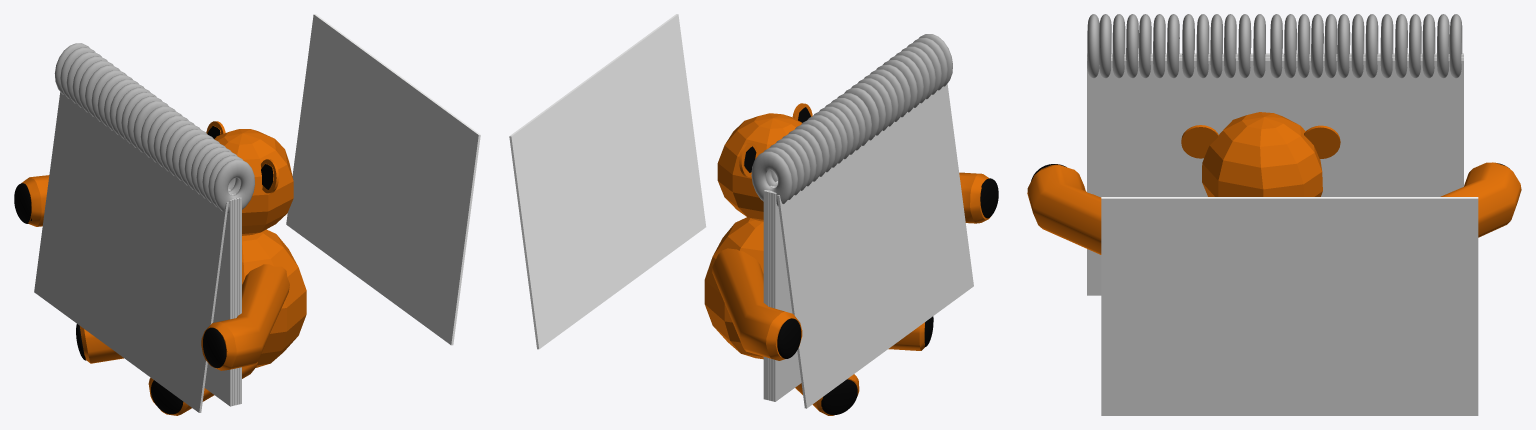
Rendered from Bear 1.fbx.
3 views of the same model, side by side, from view 1: azimuth 30°, elevation 25°; view 2: azimuth 150°, elevation 25°; view 3: azimuth 270°, elevation 25° (orthographic). The views are drawn at different scales.
Visible parts, largest first — view 1: pasted__pCube1 (×5), pasted__pasted__pCube1, pasted__pasted__pTorus1 (×12), pasted__pTorus1 (×12), pasted__pasted__pCylinder1 (×2), pSphere2, pSphere1, pasted__pasted__pasted__pCylinder1, pasted__pasted__pSphere5, pasted__pSphere5, pasted__pasted__pasted__pSphere5, pasted__pasted__pasted__pDisc1 (+1 smaller); view 2: pasted__pCube1 (×5), pasted__pasted__pCube1, pasted__pTorus1 (×11), pasted__pasted__pasted__pCylinder1 (×2), pasted__pasted__pTorus1 (×11), pSphere2, pSphere1, pasted__pasted__pCylinder1, pSphere5, pasted__pasted__pasted__pSphere5, pasted__pasted__pSphere5, pCube1 (+1 smaller); view 3: pasted__pasted__pCube1, pasted__pCube1, pasted__pTorus1 (×14), pasted__pasted__pTorus1 (×13), pSphere2, pasted__pasted__pCylinder1, pasted__pasted__pasted__pCylinder1, pasted__pasted__pasted__pDisc1 (×2).
Boxes of the visible parts, bbox=[...] form: pasted__pCube1 (×5): bbox=[34, 92, 241, 412]; pasted__pasted__pCube1: bbox=[286, 14, 480, 345]; pasted__pasted__pTorus1 (×12): bbox=[140, 106, 254, 213]; pasted__pTorus1 (×12): bbox=[60, 47, 168, 152]; pasted__pasted__pCylinder1 (×2): bbox=[80, 264, 289, 370]; pSphere2: bbox=[214, 129, 293, 235]; pSphere1: bbox=[242, 229, 306, 367]; pasted__pasted__pasted__pCylinder1: bbox=[21, 175, 49, 226]; pasted__pasted__pSphere5: bbox=[203, 327, 226, 368]; pasted__pSphere5: bbox=[151, 380, 183, 414]; pasted__pasted__pasted__pSphere5: bbox=[14, 183, 31, 223]; pasted__pasted__pasted__pDisc1: bbox=[261, 159, 278, 193]; pasted__pCube1 (×5): bbox=[763, 83, 973, 408]; pasted__pasted__pCube1: bbox=[509, 14, 706, 349]; pasted__pTorus1 (×11): bbox=[751, 93, 871, 206]; pasted__pasted__pasted__pCylinder1 (×2): bbox=[712, 248, 925, 360]; pasted__pasted__pTorus1 (×11): bbox=[844, 37, 947, 140]; pSphere2: bbox=[717, 113, 801, 221]; pSphere1: bbox=[704, 217, 763, 359]; pasted__pasted__pCylinder1: bbox=[959, 172, 990, 223]; pSphere5: bbox=[821, 379, 857, 415]; pasted__pasted__pasted__pSphere5: bbox=[777, 318, 801, 358]; pasted__pasted__pSphere5: bbox=[980, 178, 998, 218]; pCube1: bbox=[771, 191, 774, 401]; pasted__pasted__pCube1: bbox=[1101, 197, 1478, 415]; pasted__pCube1: bbox=[1087, 59, 1463, 295]; pasted__pTorus1 (×14): bbox=[1270, 14, 1462, 78]; pasted__pasted__pTorus1 (×13): bbox=[1087, 14, 1265, 78]; pSphere2: bbox=[1202, 112, 1322, 196]; pasted__pasted__pCylinder1: bbox=[1027, 164, 1101, 254]; pasted__pasted__pasted__pCylinder1: bbox=[1440, 162, 1521, 237]; pasted__pasted__pasted__pDisc1 (×2): bbox=[1181, 125, 1340, 158].
Size of the model in its own units: 16.34 by 15.13 by 20.97.
